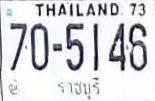0: (30, 23, 48, 70)
1: (92, 23, 98, 70)
4: (107, 23, 126, 70)
5: (65, 23, 84, 70)
6: (128, 23, 147, 70)
7: (9, 22, 27, 71)
RBR: (54, 76, 102, 101)
